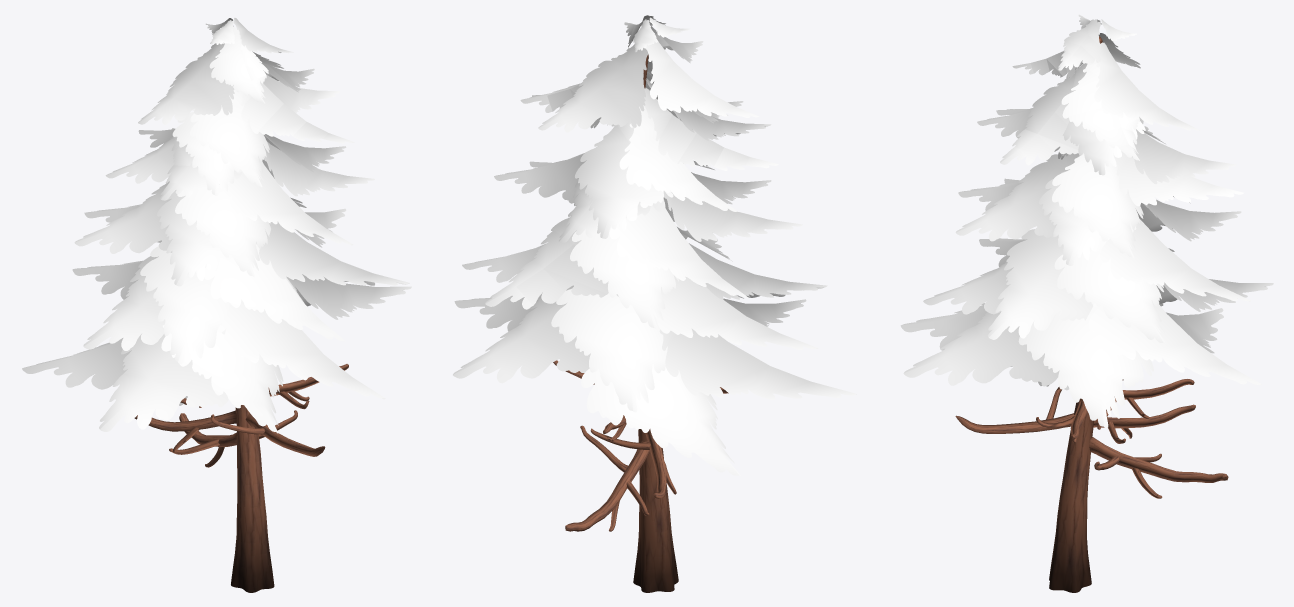
The model's file is Pine_1.glb.
3 renders of one model, left to right at view 1: azimuth 30°, elevation 25°; view 2: azimuth 150°, elevation 25°; view 3: azimuth 270°, elevation 25°, orthographic. The views are drawn at different scales.
Parts seen in each view (by area): view 1: Pine_1; view 2: Pine_1; view 3: Pine_1.
Boxes of the visible parts, x1,y1,x2,y2 form: Pine_1: (22,18,411,592); Pine_1: (453,15,856,592); Pine_1: (900,14,1273,592).
Size of what is drawn, in the model's own units: 4.94 by 7.32 by 4.54.
2 materials, 2 textured.
